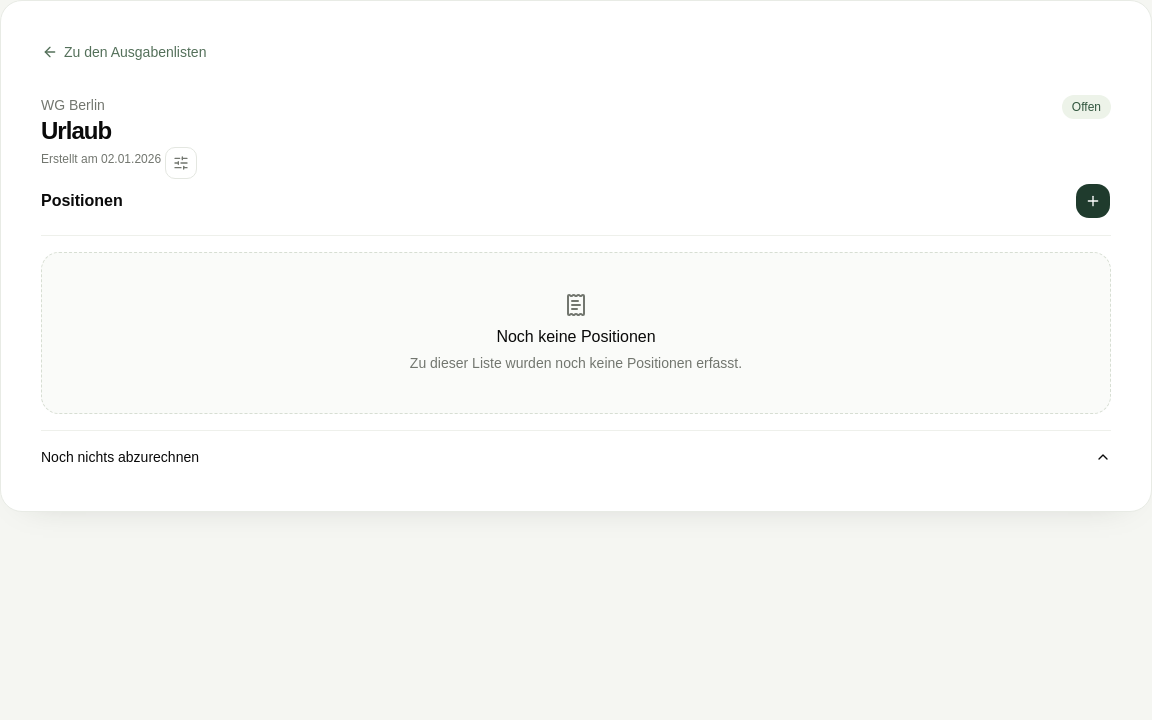
ExpenseListDetail › legt eine Position mit Betrag in Cent an
Click the button named "Position hinzufügen" at (1093, 201), box [1075,183,1111,219]
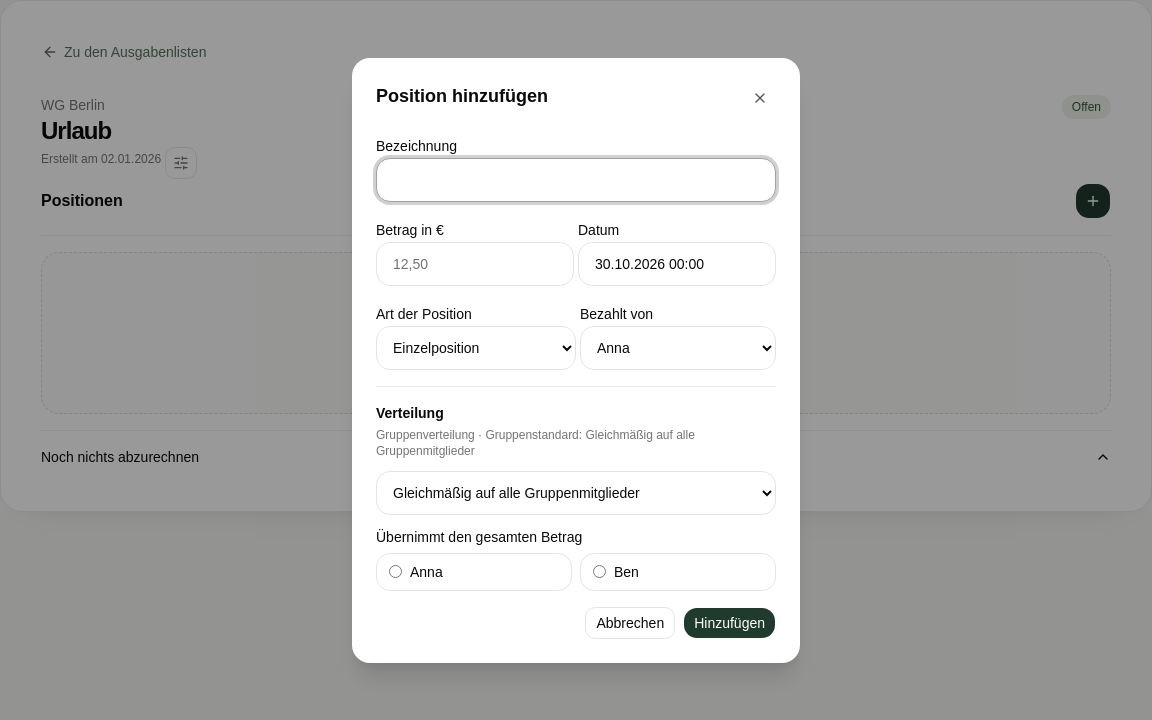
Type "  Brot " into the field labelled "Bezeichnung" at (576, 180), box [376,158,776,202]
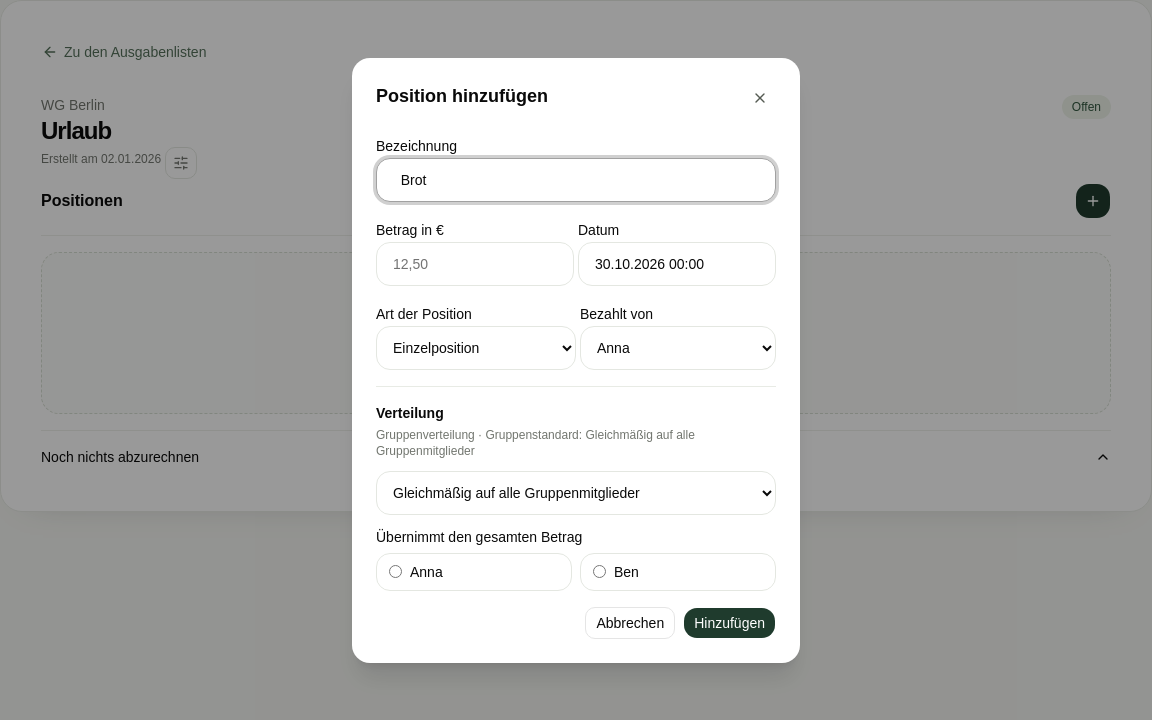
Type "1.234,50" into the field labelled "Betrag in €" at (475, 264), box [376,242,574,286]
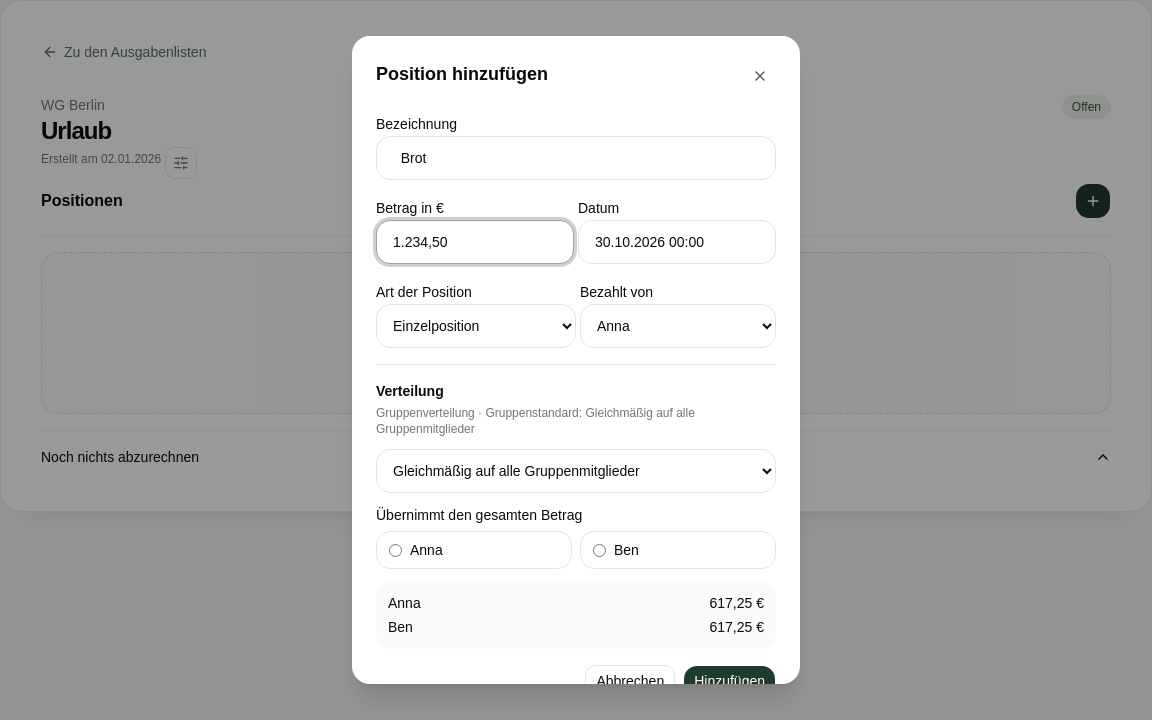
Select "Ben" in the dropdown labelled "Bezahlt von" at (678, 326), box [580,304,776,348]
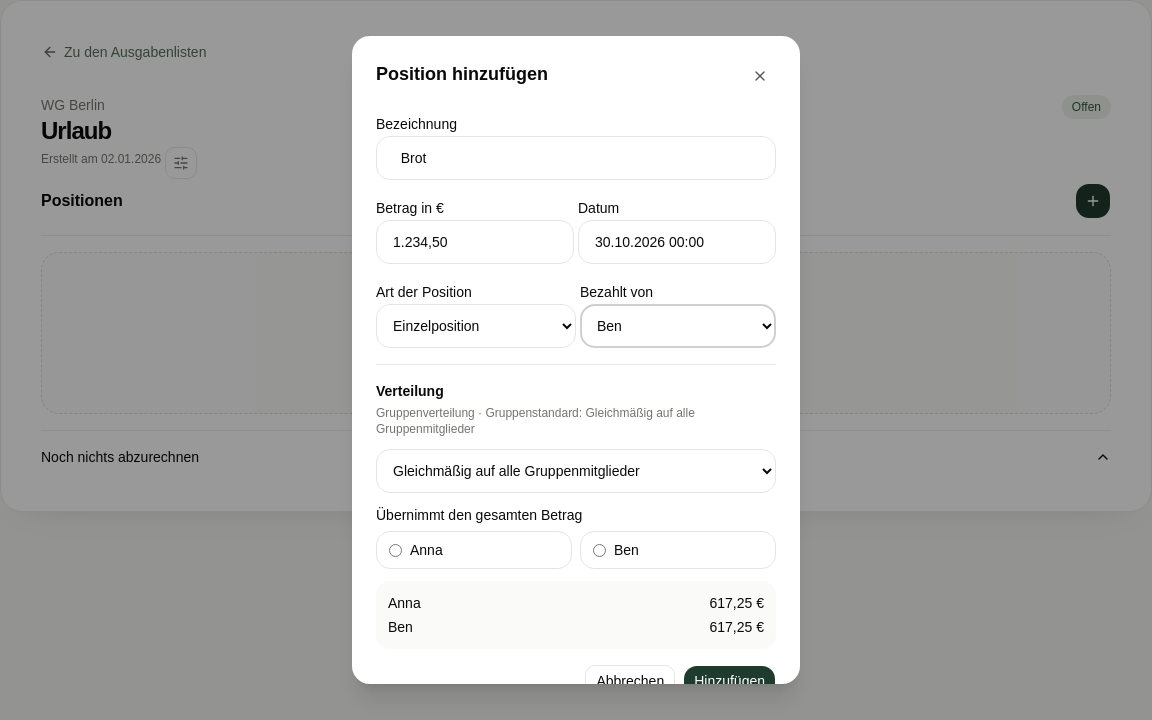
Click the button "Hinzufügen" at (730, 681), box [683,665,776,697]
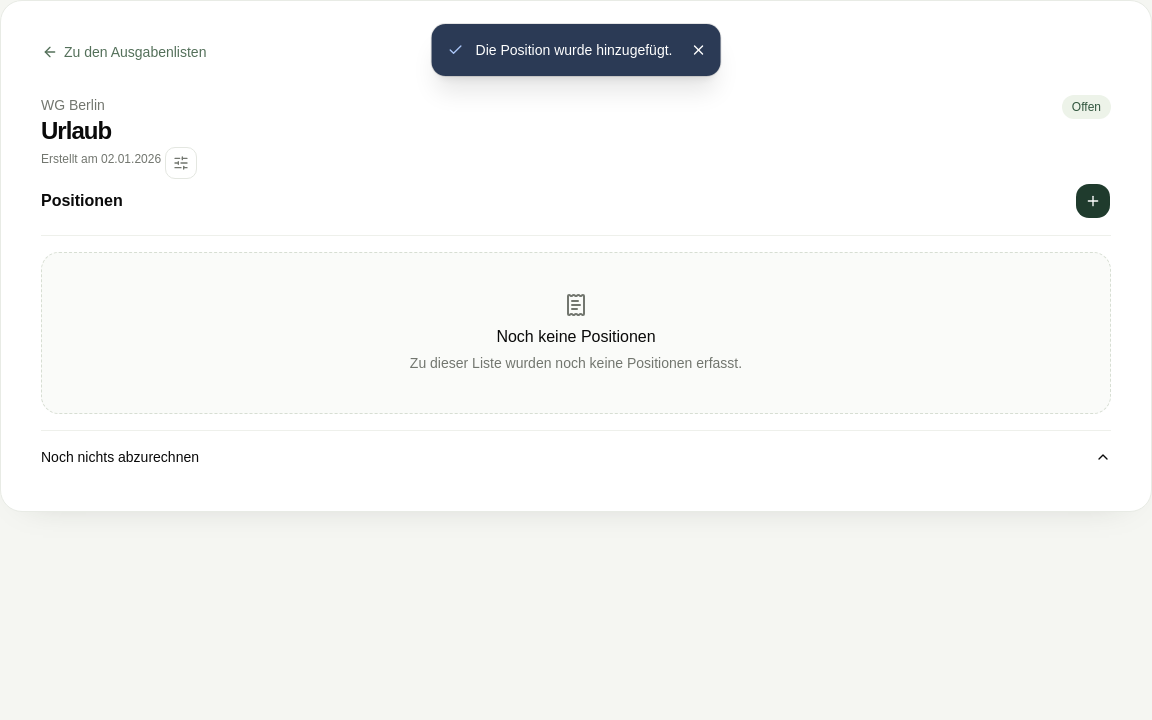
Check: the text "Die Position wurde hinzugefügt." is shown, box [476,40,672,60]
